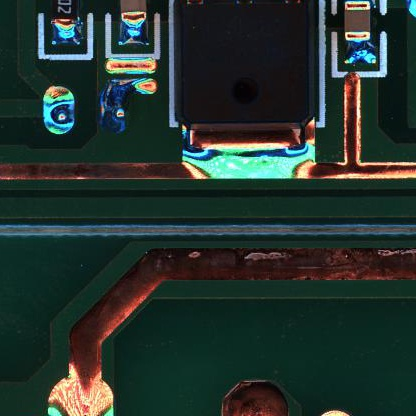spot: (43, 87, 76, 136)
